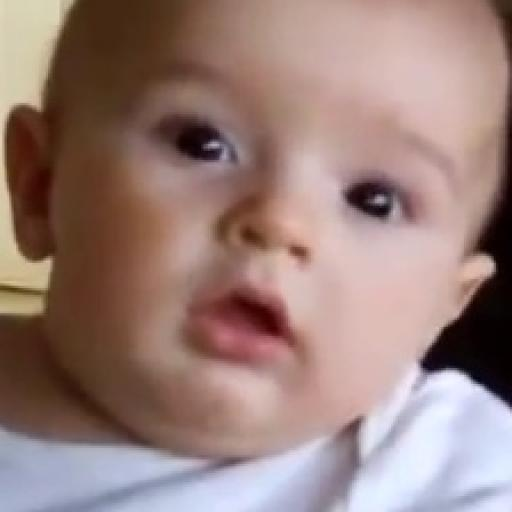Autism: (14, 1, 512, 455)
